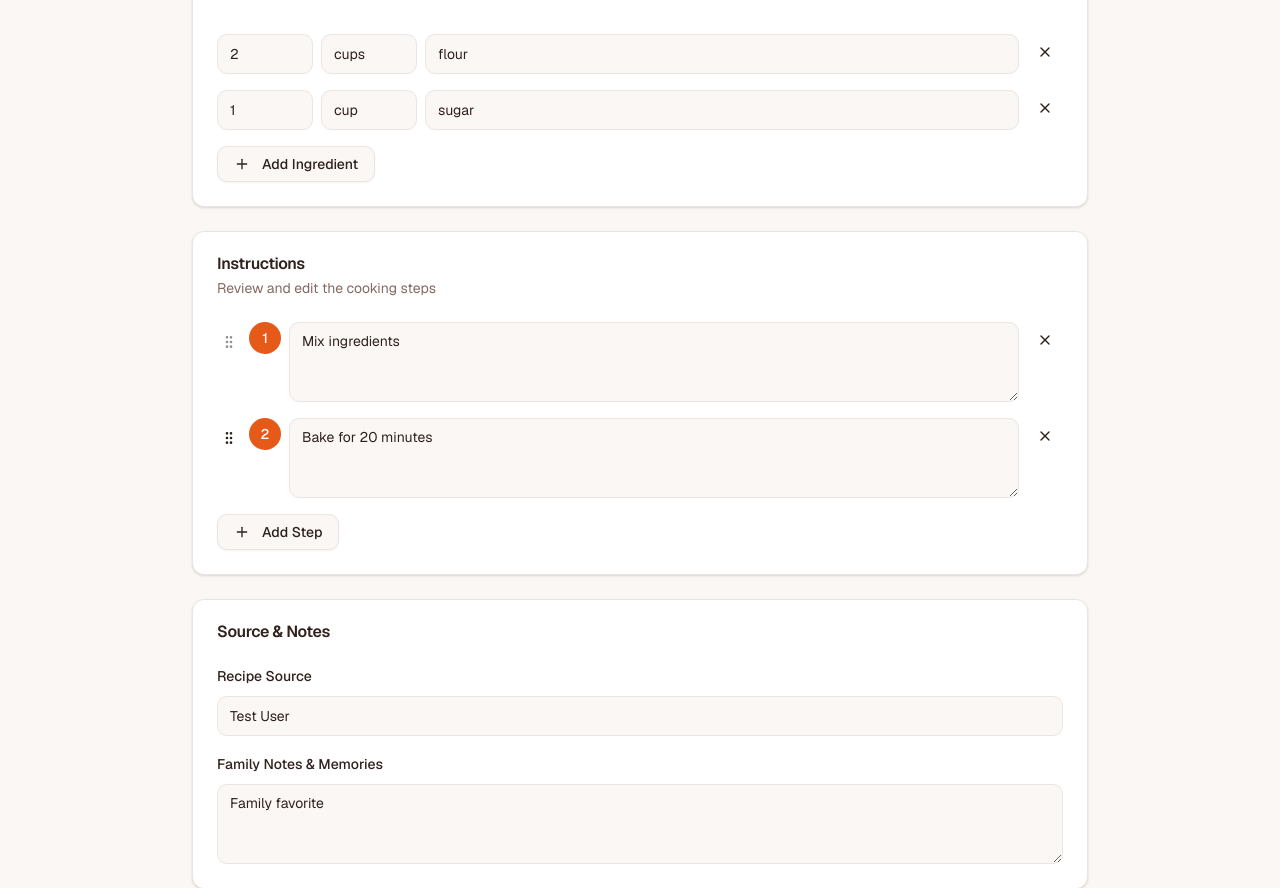
VoiceReviewForm › should move instruction up/down
(page scrolled)
Move second instruction up
Click the 6th button at [229, 438], box 217,426 -> 241,450
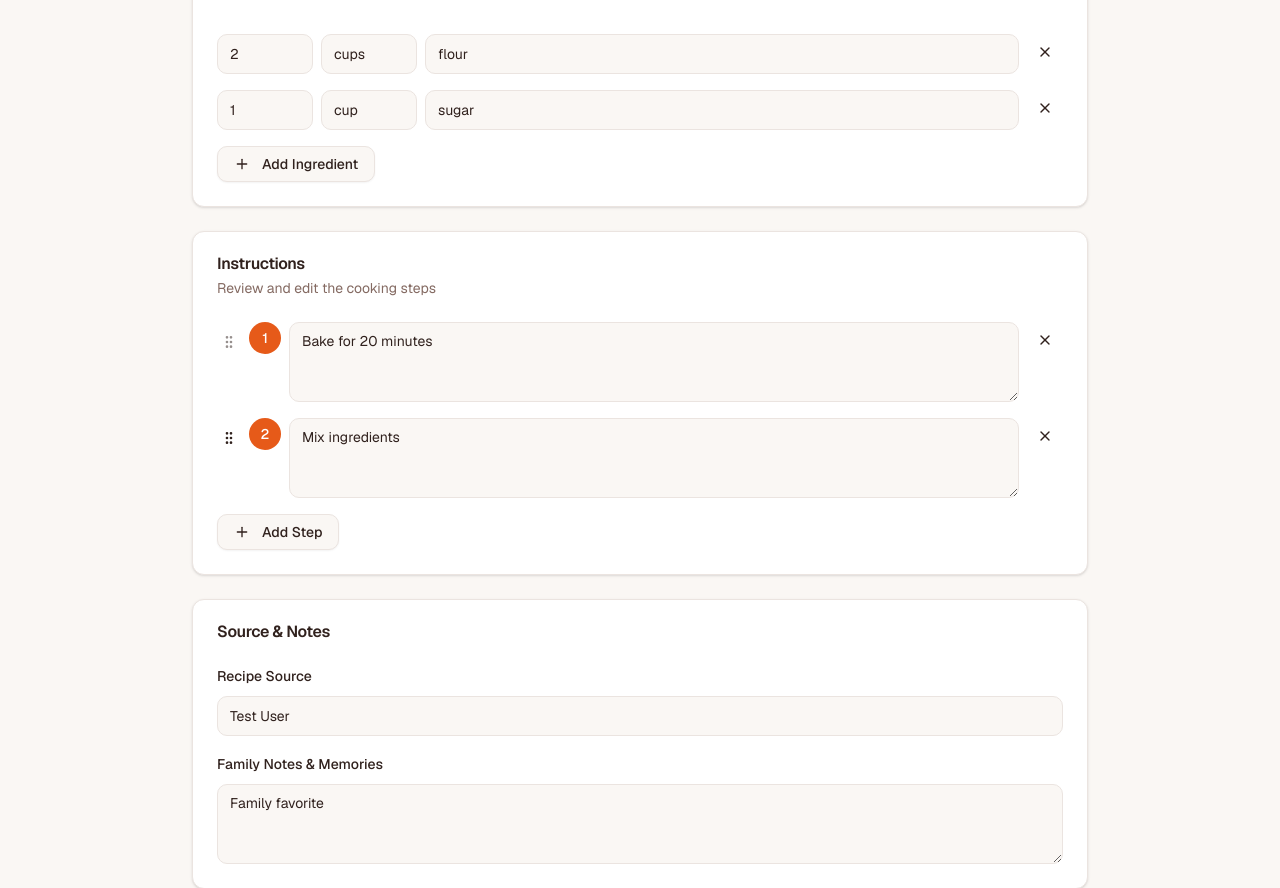
Expected: the 1st text box with placeholder "Instruction *" holds "Bake for 20 minutes", 289,322 -> 1019,402
Expected: the 2nd text box with placeholder "Instruction *" holds "Mix ingredients", 289,418 -> 1019,498
